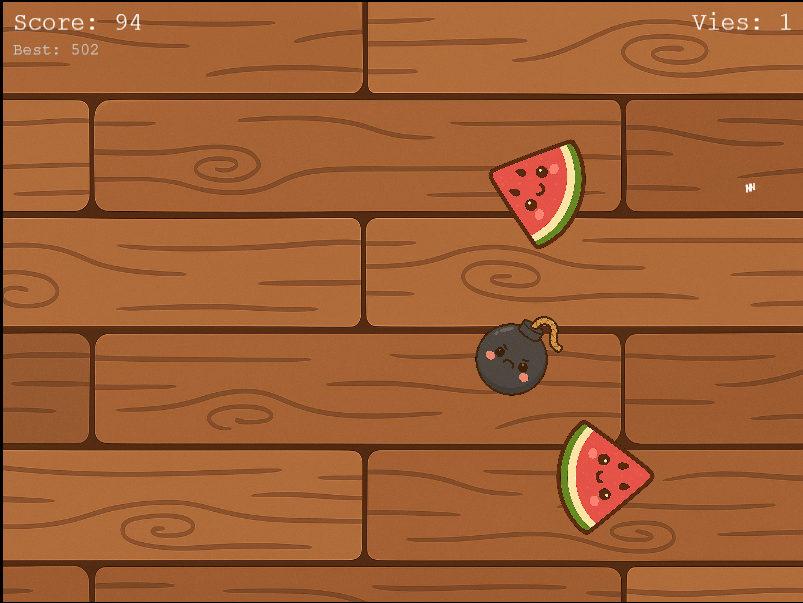bomb: (471, 309, 571, 411)
fruit: (553, 415, 658, 539), (490, 139, 593, 249)
